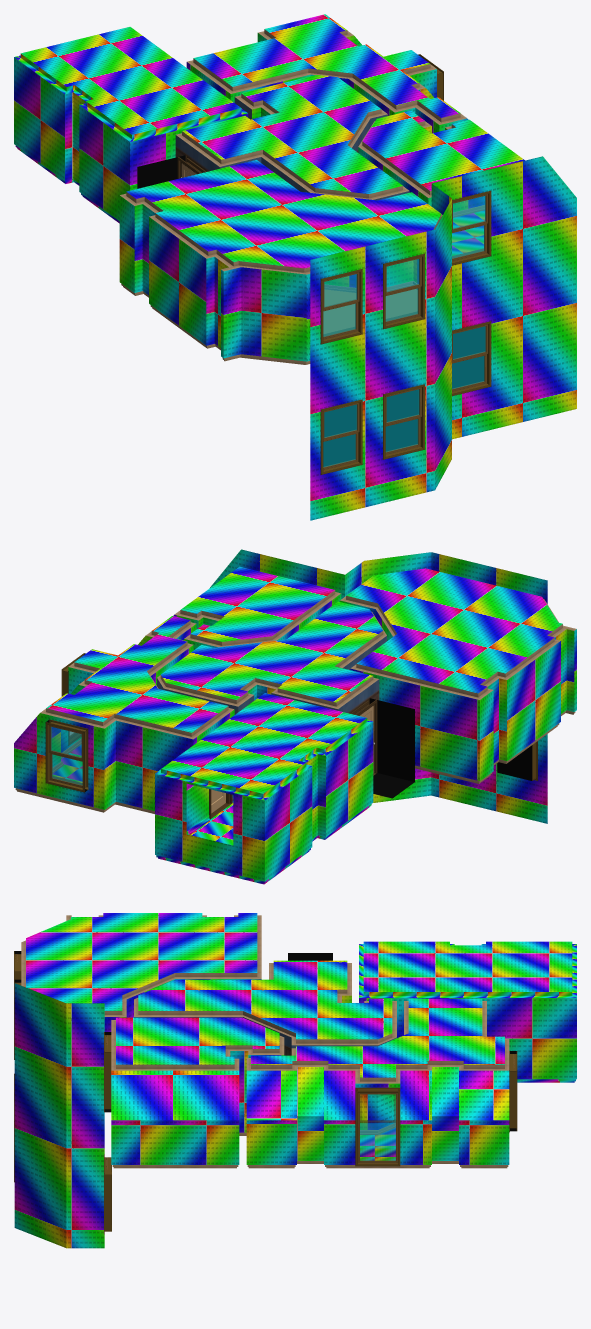
Rendered from level_08.fbx.
3 views of the same model, one above another, from view 1: azimuth 30°, elevation 25°; view 2: azimuth 150°, elevation 25°; view 3: azimuth 270°, elevation 25° (orthographic). The views are drawn at different scales.
Visible parts, largest first — view 1: inner_wall.014, inner_wall.073, inner_wall.074, inner_wall.076, inner_wall.077, inner_wall.075, Plane.052, Plane.014, Plane.053, inner_wall.070, inner_wall.013, inner_wall.012 (+18 smaller); view 2: inner_wall.014, inner_wall.073, inner_wall.074, inner_wall.076, inner_wall.077, inner_wall.075, inner_wall.066, inner_wall.061, inner_wall.012, inner_wall.013, Plane.026, inner_wall.067 (+7 smaller); view 3: inner_wall.014, inner_wall.073, inner_wall.074, inner_wall.076, inner_wall.077, inner_wall.075, Plane.016, inner_wall.048, inner_wall.046, inner_wall.068, inner_wall.035, Plane.026 (+2 smaller).
Part boxes in pixels (x1=…): inner_wall.014: x1=14, y1=29, x2=576, y2=520; inner_wall.073: x1=126, y1=160, x2=441, y2=268; inner_wall.074: x1=182, y1=75, x2=402, y2=193; inner_wall.076: x1=21, y1=27, x2=241, y2=134; inner_wall.077: x1=193, y1=14, x2=460, y2=117; inner_wall.075: x1=362, y1=110, x2=524, y2=190; Plane.052: x1=320, y1=399, x2=362, y2=474; Plane.014: x1=383, y1=384, x2=424, y2=459; Plane.053: x1=452, y1=321, x2=491, y2=395; inner_wall.070: x1=323, y1=289, x2=417, y2=333; inner_wall.013: x1=206, y1=249, x2=233, y2=350; inner_wall.012: x1=134, y1=197, x2=163, y2=297; inner_wall.014: x1=14, y1=549, x2=576, y2=884; inner_wall.073: x1=346, y1=568, x2=562, y2=693; inner_wall.074: x1=161, y1=601, x2=382, y2=702; inner_wall.076: x1=161, y1=693, x2=366, y2=793; inner_wall.077: x1=46, y1=616, x2=227, y2=732; inner_wall.075: x1=181, y1=566, x2=334, y2=641; inner_wall.066: x1=370, y1=698, x2=414, y2=798; inner_wall.061: x1=299, y1=747, x2=325, y2=841; inner_wall.012: x1=480, y1=671, x2=506, y2=765; inner_wall.013: x1=547, y1=624, x2=574, y2=715; Plane.026: x1=45, y1=719, x2=90, y2=792; inner_wall.067: x1=190, y1=803, x2=233, y2=845; inner_wall.014: x1=14, y1=915, x2=576, y2=1248; inner_wall.073: x1=26, y1=913, x2=257, y2=1010; inner_wall.074: x1=138, y1=960, x2=392, y2=1039; inner_wall.076: x1=363, y1=941, x2=572, y2=991; inner_wall.077: x1=251, y1=998, x2=504, y2=1077; inner_wall.075: x1=116, y1=1017, x2=279, y2=1064; Plane.016: x1=355, y1=1087, x2=400, y2=1166; inner_wall.048: x1=427, y1=1061, x2=463, y2=1163; inner_wall.046: x1=292, y1=1061, x2=328, y2=1163; inner_wall.068: x1=360, y1=1128, x2=395, y2=1160; inner_wall.035: x1=225, y1=1045, x2=252, y2=1135; Plane.026: x1=509, y1=1051, x2=517, y2=1132.
Bounding box in the file's own units: 9.01 × 12.5 × 6.
